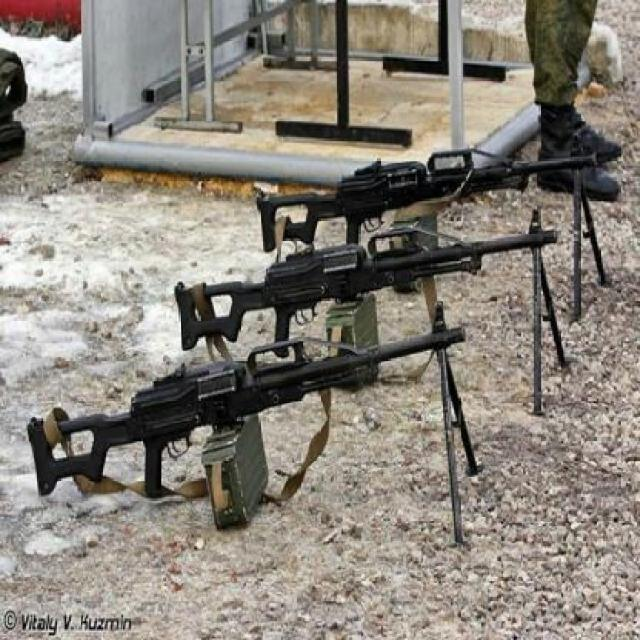weapon: (10, 295, 501, 568), (138, 192, 600, 423), (256, 127, 629, 324)
